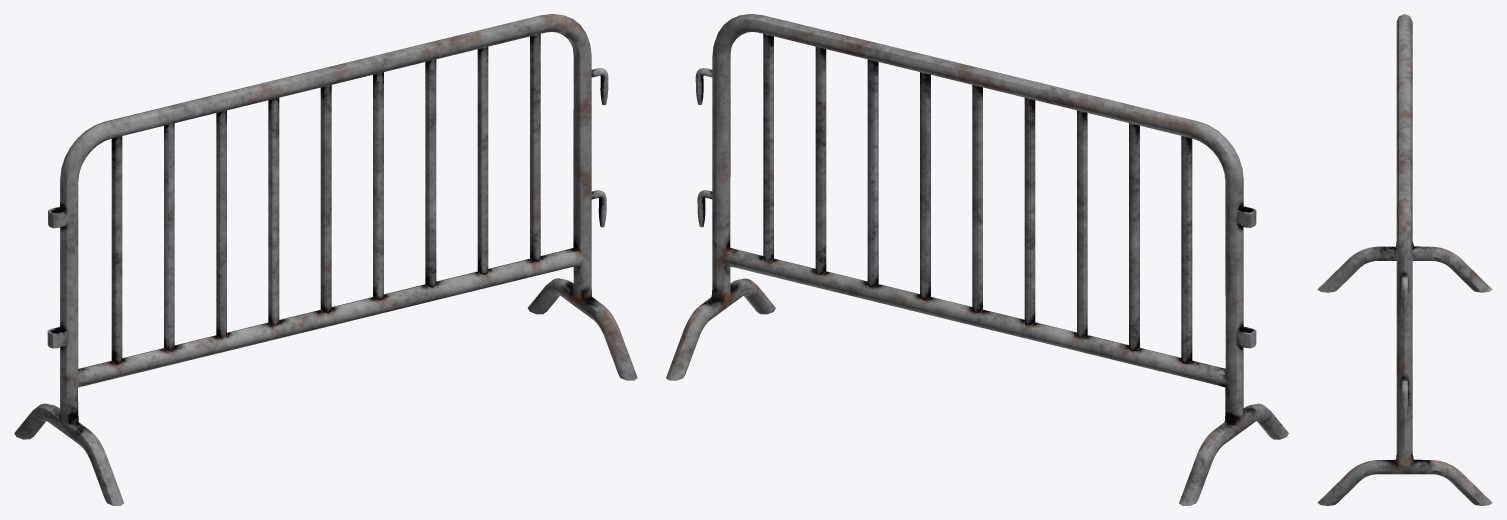
File: metal barrier.gltf
3 views of the same model, side by side, from view 1: azimuth 30°, elevation 25°; view 2: azimuth 150°, elevation 25°; view 3: azimuth 270°, elevation 25° (orthographic). The views are drawn at different scales.
Parts seen in each view (by area): view 1: Object_0; view 2: Object_0; view 3: Object_0.
Part boxes in pixels (x1=…): Object_0: x1=14, y1=14, x2=637, y2=505; Object_0: x1=666, y1=14, x2=1288, y2=505; Object_0: x1=1317, y1=14, x2=1492, y2=505.
Size of the model in its own units: 3552 by 2049 by 1131.
1 material, 1 textured.
